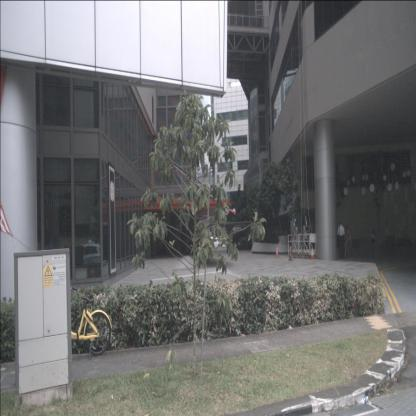cone: (288, 247, 293, 262), (310, 246, 315, 260), (275, 244, 279, 259)
